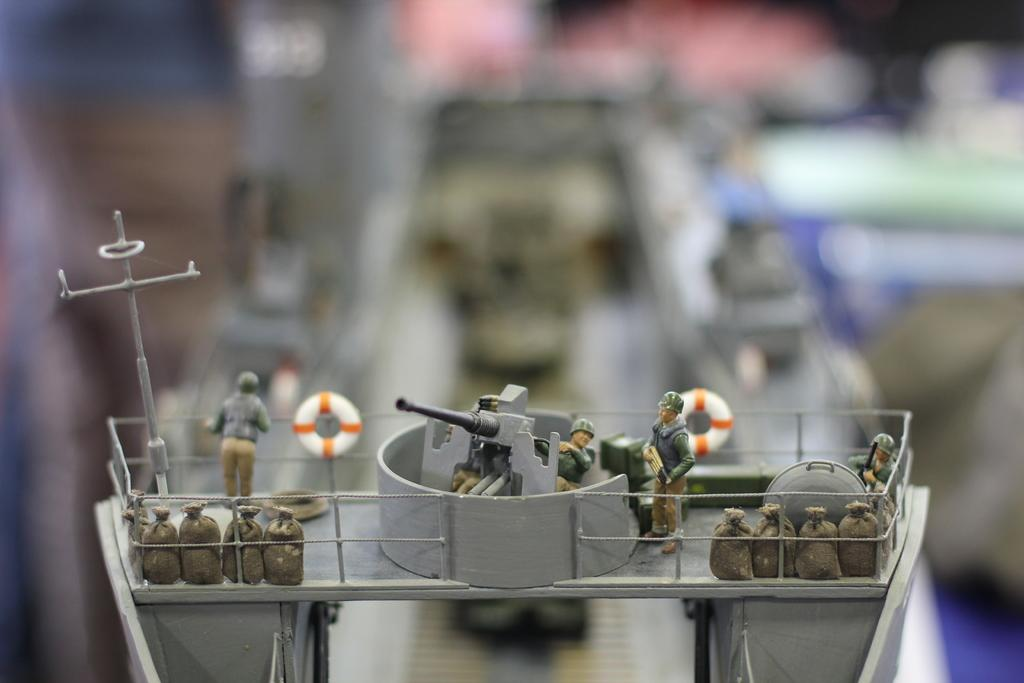weapon: (400, 398, 502, 440)
